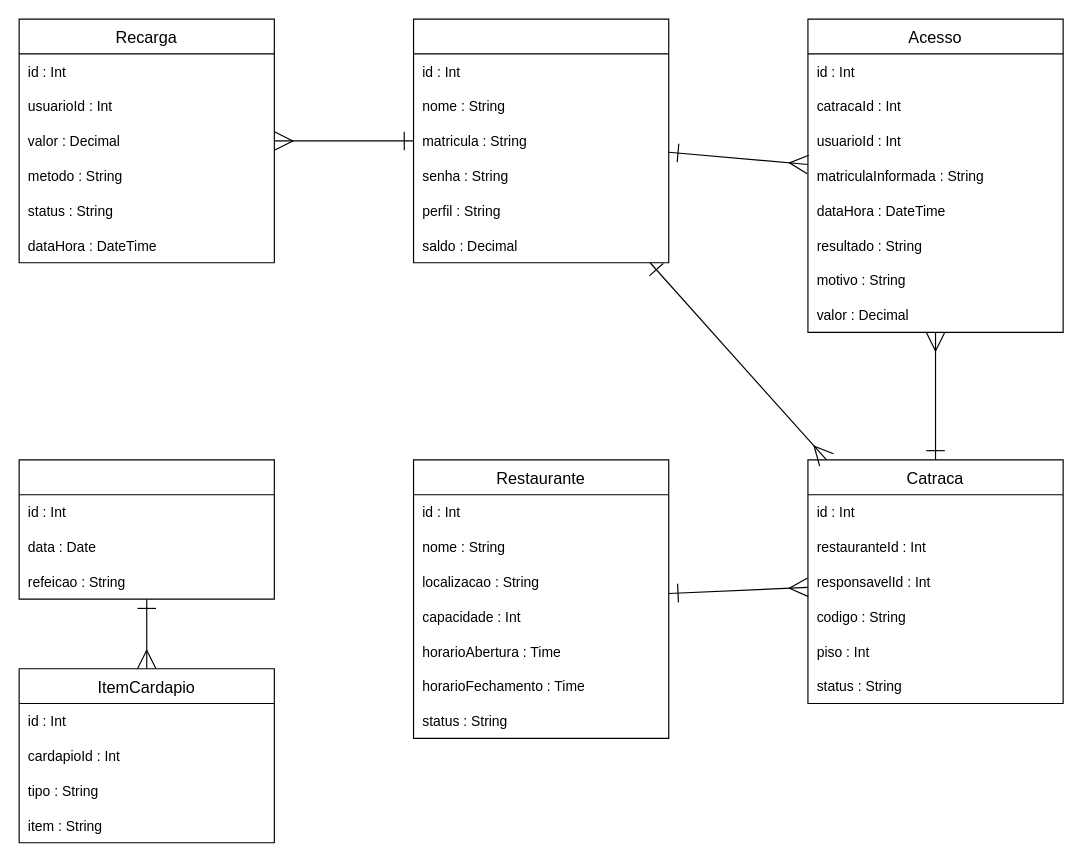
Image size: 1082x862. Some labels were removed from this diagram. The box of each missing label's shape, as (x1, y1, x2, y2) in pixels:
Cardapio: (18, 459, 274, 599)
Usuario: (412, 18, 669, 263)
